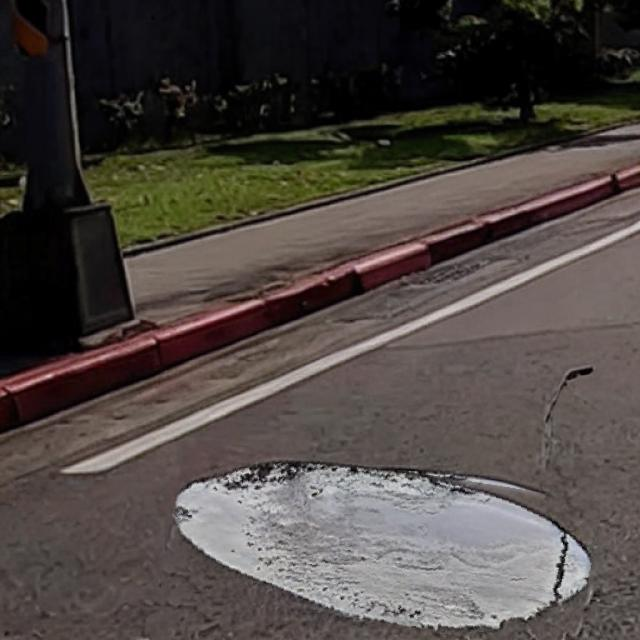puddle: (167, 453, 597, 639)
